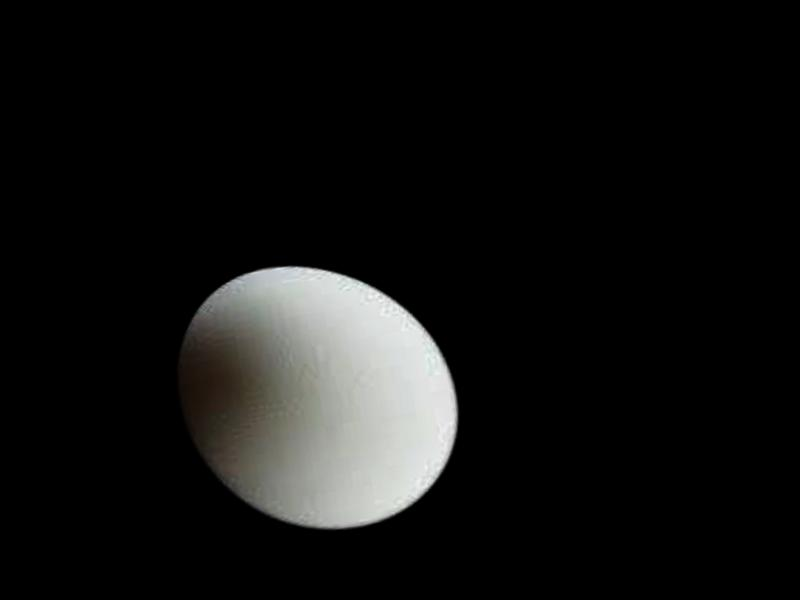Eggs: (163, 239, 475, 551)
